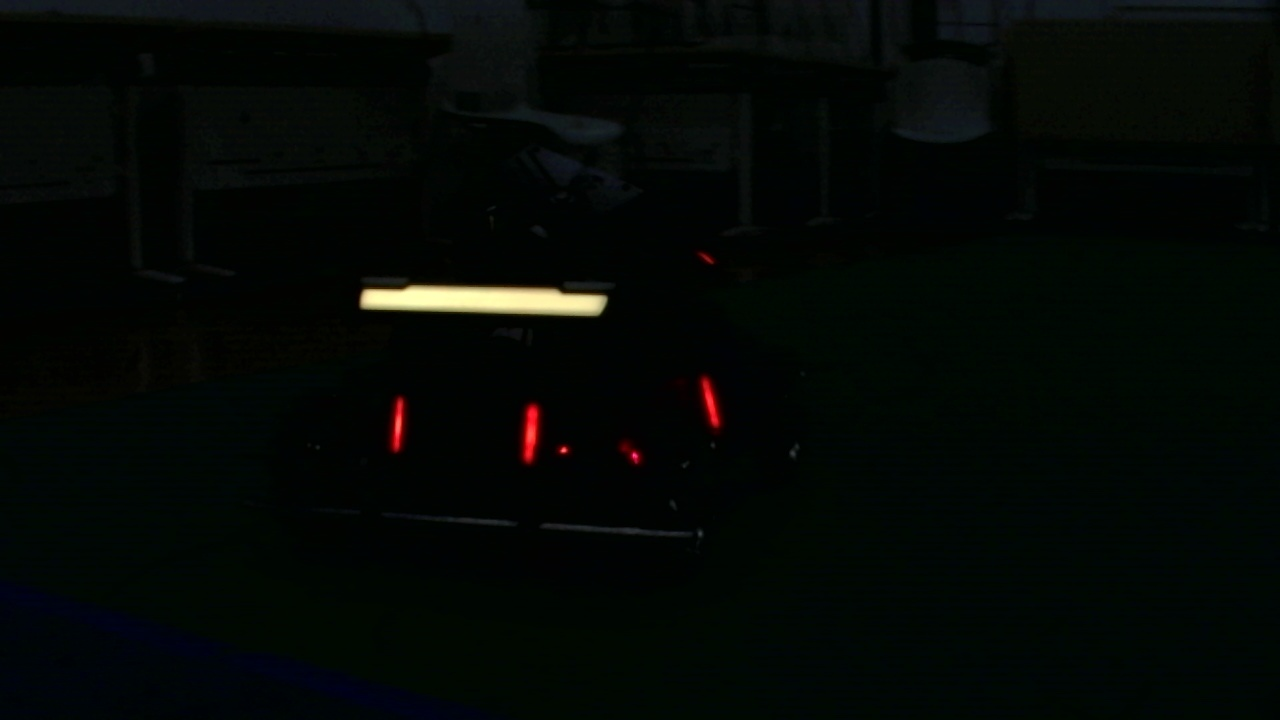lamp: (385, 396, 409, 462), (698, 368, 722, 434), (522, 398, 541, 462)
notpair1: (523, 372, 720, 467)
pair1: (387, 401, 542, 463)
